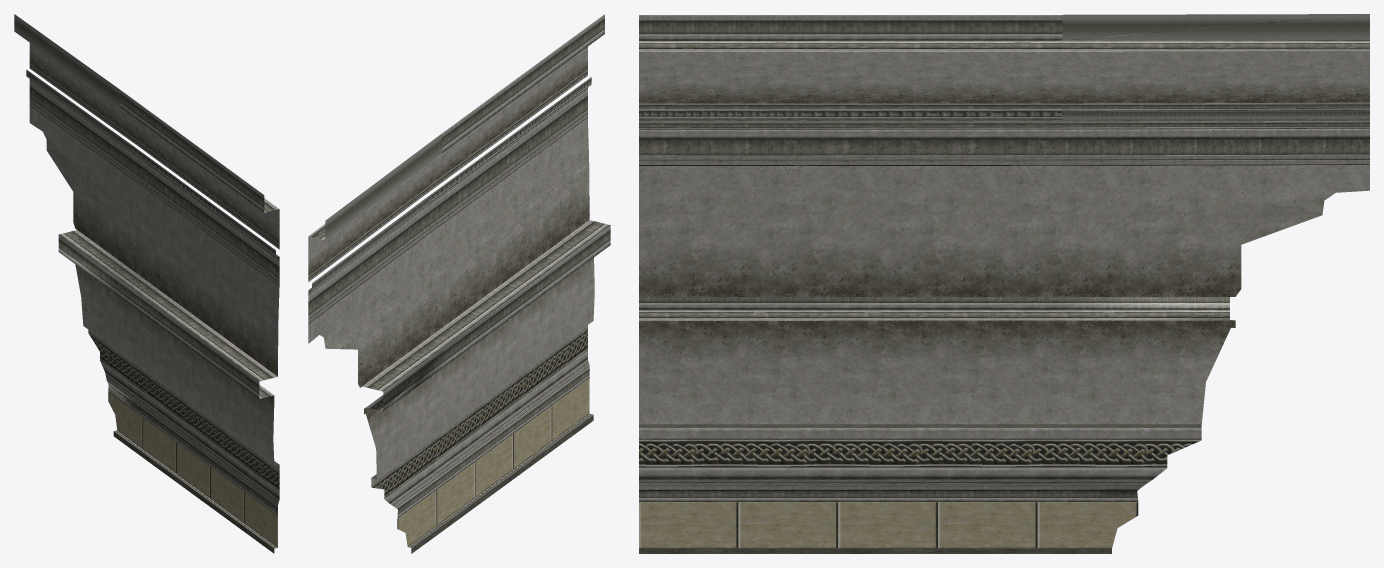
Rendered from DWARF_PALACE_MAINHALL_ENTRENCE02.fbx.
3 renders of one model, left to right at view 1: azimuth 30°, elevation 25°; view 2: azimuth 150°, elevation 25°; view 3: azimuth 270°, elevation 25°, orthographic. The views are drawn at different scales.
Visible parts, largest first — view 1: DWARF_PALACE_MAINHALL_ENTRENCE02; view 2: DWARF_PALACE_MAINHALL_ENTRENCE02; view 3: DWARF_PALACE_MAINHALL_ENTRENCE02.
Part boxes in pixels (left/top/right/bottom): DWARF_PALACE_MAINHALL_ENTRENCE02: left=14, top=14, right=279, bottom=553; DWARF_PALACE_MAINHALL_ENTRENCE02: left=308, top=14, right=610, bottom=553; DWARF_PALACE_MAINHALL_ENTRENCE02: left=639, top=14, right=1369, bottom=553.
Size of the model in its own units: 12047 by 205000 by 255360.
Materials: 8 (8 with a texture image).
